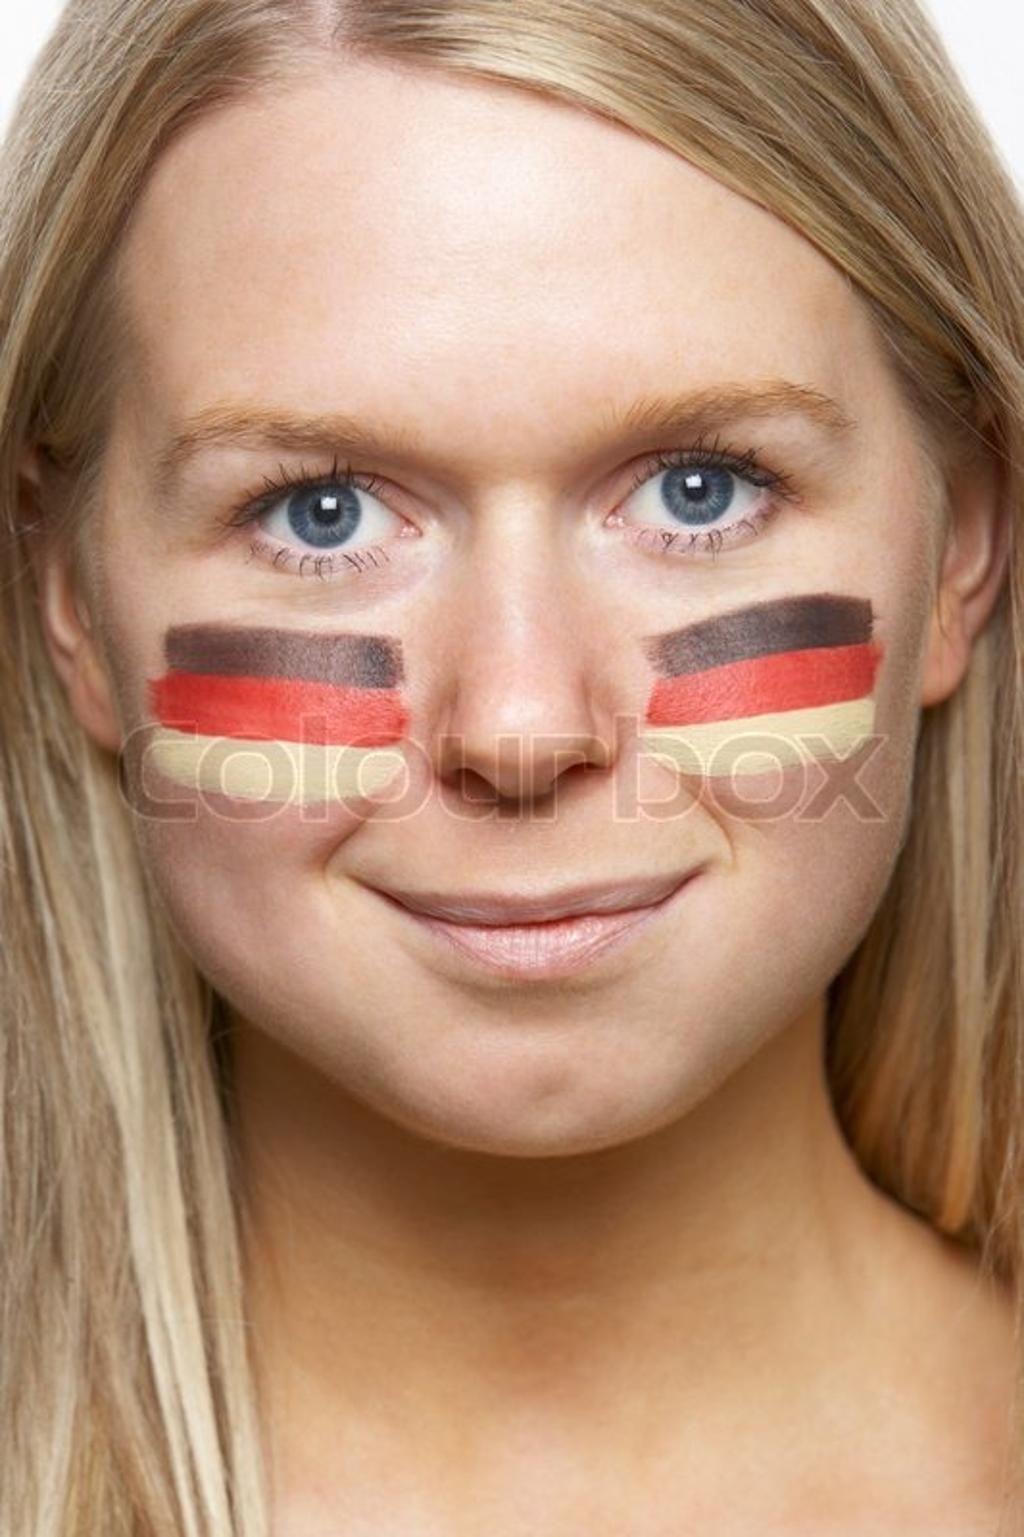face: (91, 130, 917, 1154)
